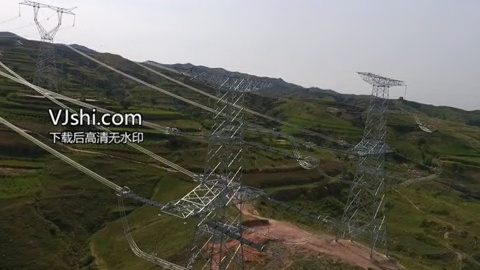tower_body: (169, 61, 283, 270), (334, 64, 415, 259)
tower_foot: (337, 207, 392, 256), (185, 230, 245, 270)
tower_head: (184, 65, 279, 93), (352, 67, 411, 91)
